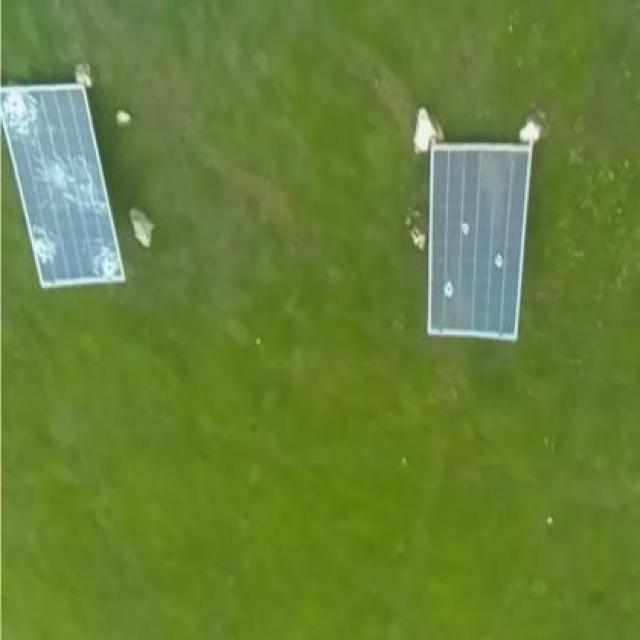cracked: (3, 82, 130, 286)
soiled: (419, 131, 535, 343)
